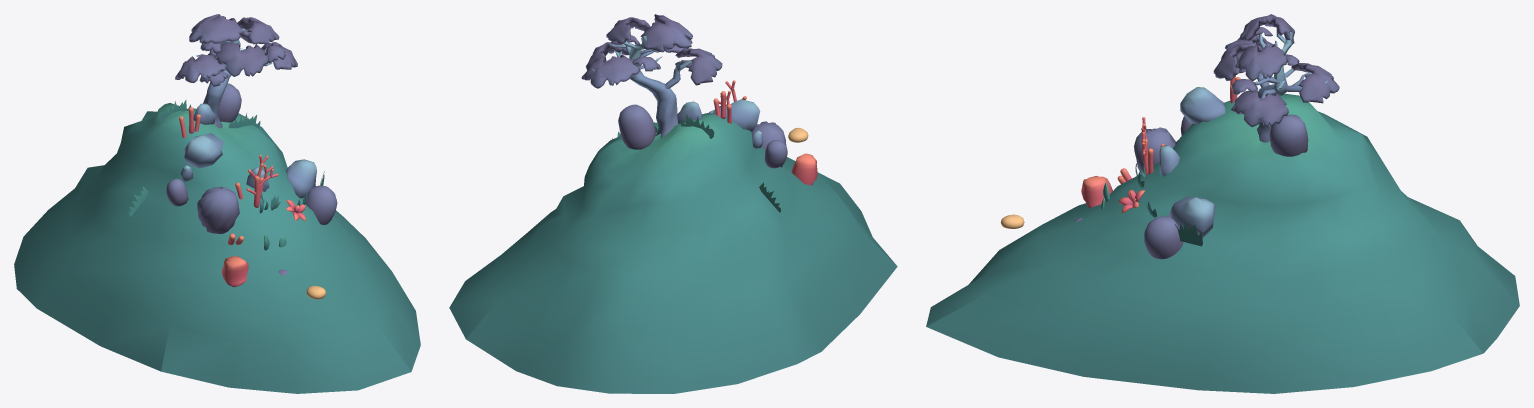
The model's file is Entropy.fbx.
3 views of the same model, side by side, from view 1: azimuth 30°, elevation 25°; view 2: azimuth 150°, elevation 25°; view 3: azimuth 270°, elevation 25° (orthographic). The views are drawn at different scales.
Parts seen in each view (by area): view 1: hill, bush3, bush2 (×2), leaves9, leaves3, Polygon4, leaves10, bush1, rock2, leaves2, tree, bush (+1 smaller); view 2: hill, tree, bush2 (×2), leaves3, leaves8, leaves10, Polygon4, leaves2, bush, bush3, leaves4; view 3: hill, bush2 (×2), leaves4, tree, bush1, leaves2, rock2, Polygon4, leaves8, bush3, leaves3, leaves9.
Part boxes in pixels (x1=…): hill: x1=14, y1=103, x2=420, y2=393; bush3: x1=197, y1=187, x2=239, y2=234; bush2 (×2): x1=218, y1=83, x2=248, y2=287; leaves9: x1=214, y1=42, x2=268, y2=76; leaves3: x1=189, y1=14, x2=243, y2=44; Polygon4: x1=183, y1=133, x2=223, y2=168; leaves10: x1=175, y1=53, x2=226, y2=82; bush1: x1=304, y1=185, x2=337, y2=224; rock2: x1=286, y1=159, x2=316, y2=198; leaves2: x1=237, y1=17, x2=279, y2=44; tree: x1=196, y1=28, x2=272, y2=128; bush: x1=166, y1=178, x2=188, y2=206; hill: x1=449, y1=113, x2=897, y2=393; tree: x1=592, y1=35, x2=692, y2=138; bush2 (×2): x1=618, y1=104, x2=817, y2=185; leaves3: x1=641, y1=14, x2=692, y2=52; leaves8: x1=581, y1=54, x2=639, y2=88; leaves10: x1=675, y1=48, x2=722, y2=85; Polygon4: x1=712, y1=99, x2=760, y2=132; leaves2: x1=606, y1=17, x2=649, y2=43; bush: x1=764, y1=140, x2=787, y2=168; bush3: x1=751, y1=121, x2=786, y2=167; leaves4: x1=585, y1=42, x2=628, y2=70; hill: x1=926, y1=93, x2=1519, y2=393; bush2 (×2): x1=1081, y1=114, x2=1308, y2=207; leaves4: x1=1231, y1=90, x2=1288, y2=127; tree: x1=1254, y1=28, x2=1327, y2=142; bush1: x1=1144, y1=216, x2=1183, y2=259; leaves2: x1=1235, y1=44, x2=1287, y2=81; rock2: x1=1168, y1=196, x2=1215, y2=237; Polygon4: x1=1180, y1=87, x2=1225, y2=124; leaves8: x1=1291, y1=63, x2=1339, y2=103; bush3: x1=1134, y1=127, x2=1175, y2=173; leaves3: x1=1239, y1=14, x2=1294, y2=43; leaves9: x1=1213, y1=43, x2=1263, y2=80.
Size of the model in its own units: 77.41 by 63.65 by 112.
